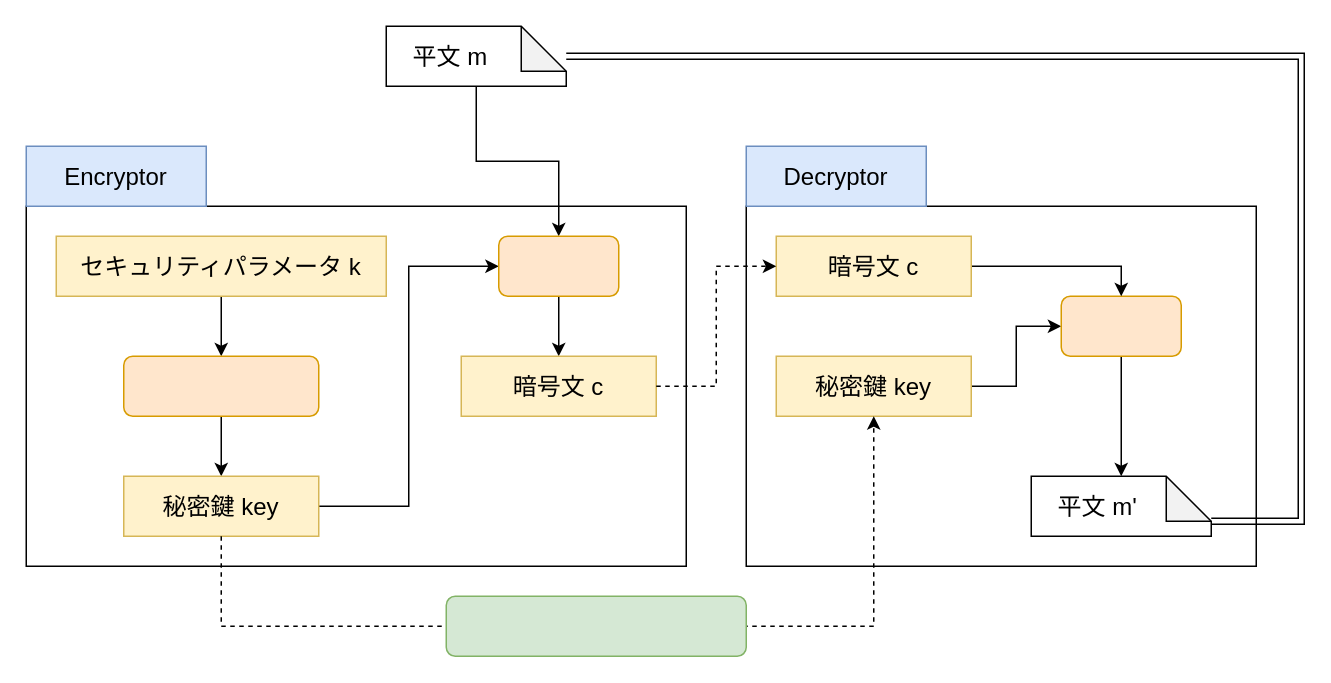
The diagram is 1331 pixels wide and 683 high, and some of its shapes have lost their labels. The shapes that lost their labels are listed below. From the top down, each one's box as (x1, y1, x2, y2) in pixels, then its label:
(497, 235, 619, 296): Enc
(1060, 295, 1181, 356): Dec
(122, 355, 319, 416): KeyGen
(445, 595, 746, 656): 秘密鍵を安全に共有
